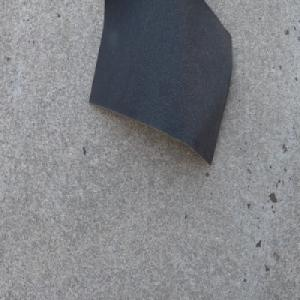PaintChip: (88, 0, 232, 168)
